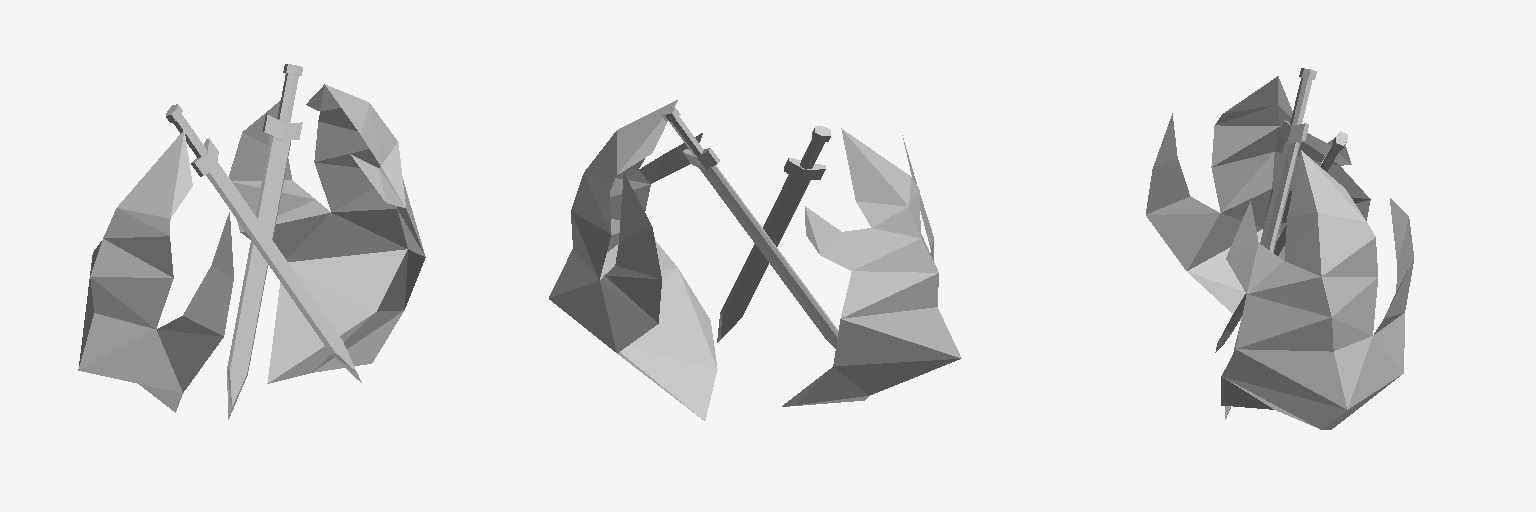
File: soul_2.obj
The picture shows the model from 3 angles: view 1: azimuth 30°, elevation 25°; view 2: azimuth 150°, elevation 25°; view 3: azimuth 270°, elevation 25°; orthographic projection.
Visible parts, largest first — view 1: soul2; view 2: soul2; view 3: soul2.
Part boxes in pixels (x1,y1,x2,y2): soul2: (78,64,425,419); soul2: (549,100,961,420); soul2: (1146,68,1413,429).
Bounding box in the file's own units: 1.31 × 1.05 × 0.8214.